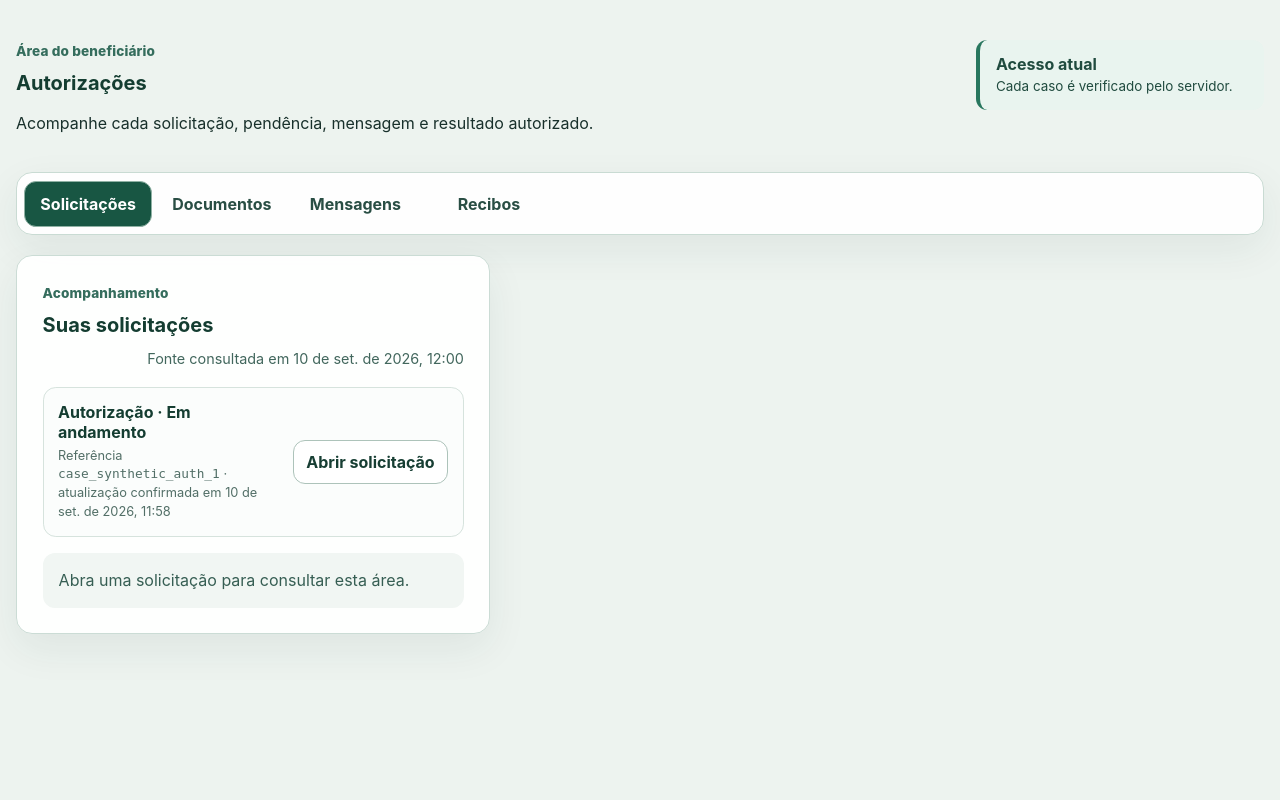
Test: leva beneficiário de solicitações a documentos, mensagens e recibos do caso autorizado
Expected: the heading "Autorização · Em andamento" is shown, [58,402,191,442]
Click the tab "Documentos" at (222, 204), box [158,181,286,227]
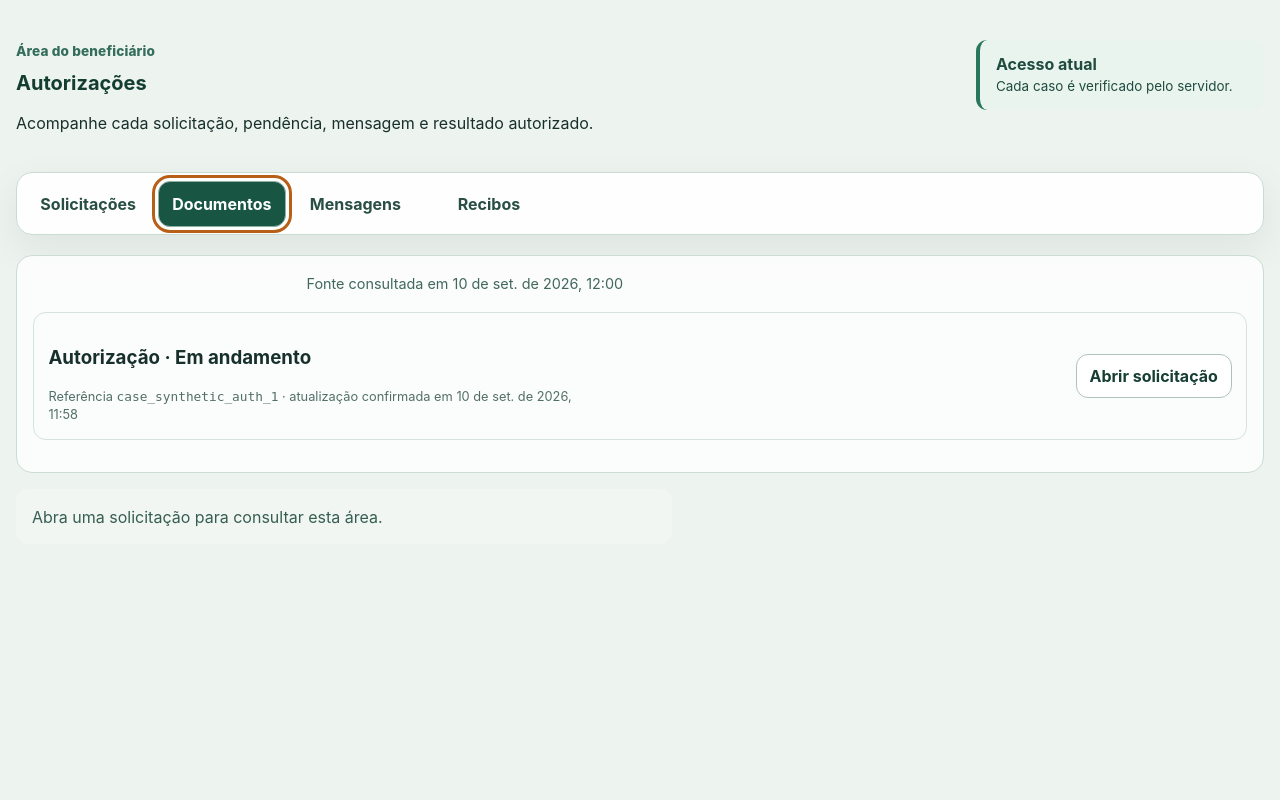
Click the button "Abrir solicitação" at (1154, 376), box [1076,354,1232,398]
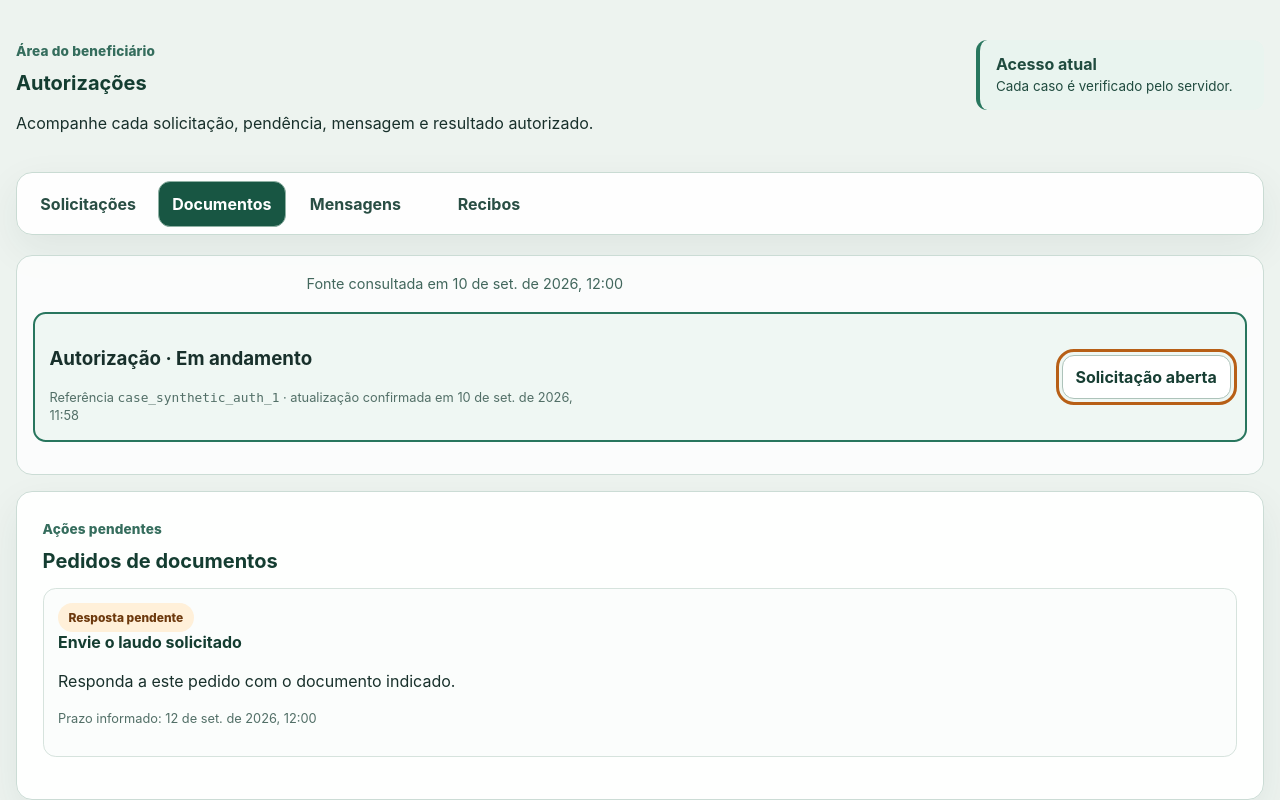
Now the heading "Pedidos de documentos" is shown, box [43,549,278,573]
Now the heading "Envie o laudo solicitado" is shown, box [58,632,242,652]
Click the tab "Mensagens" at (355, 204), box [291,181,419,227]
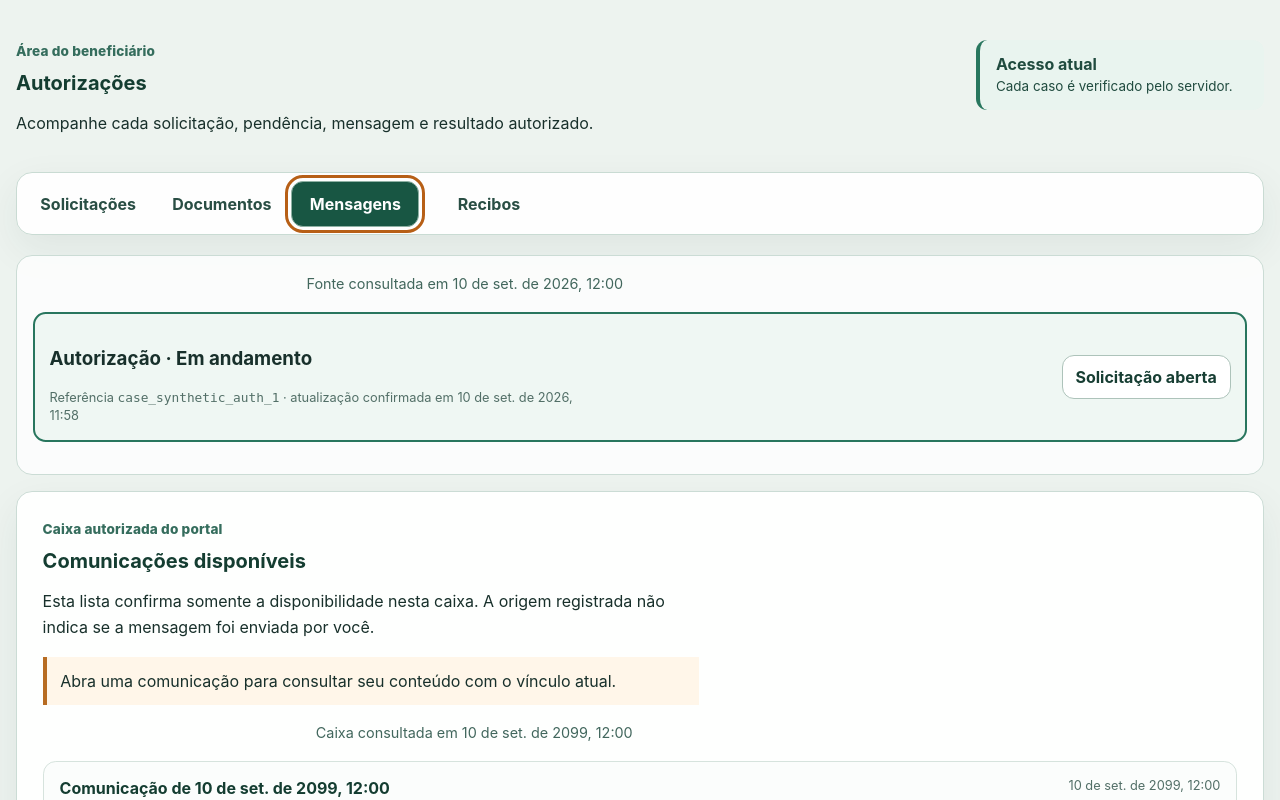
Click the tab "Recibos" at (489, 204), box [425,181,553,227]
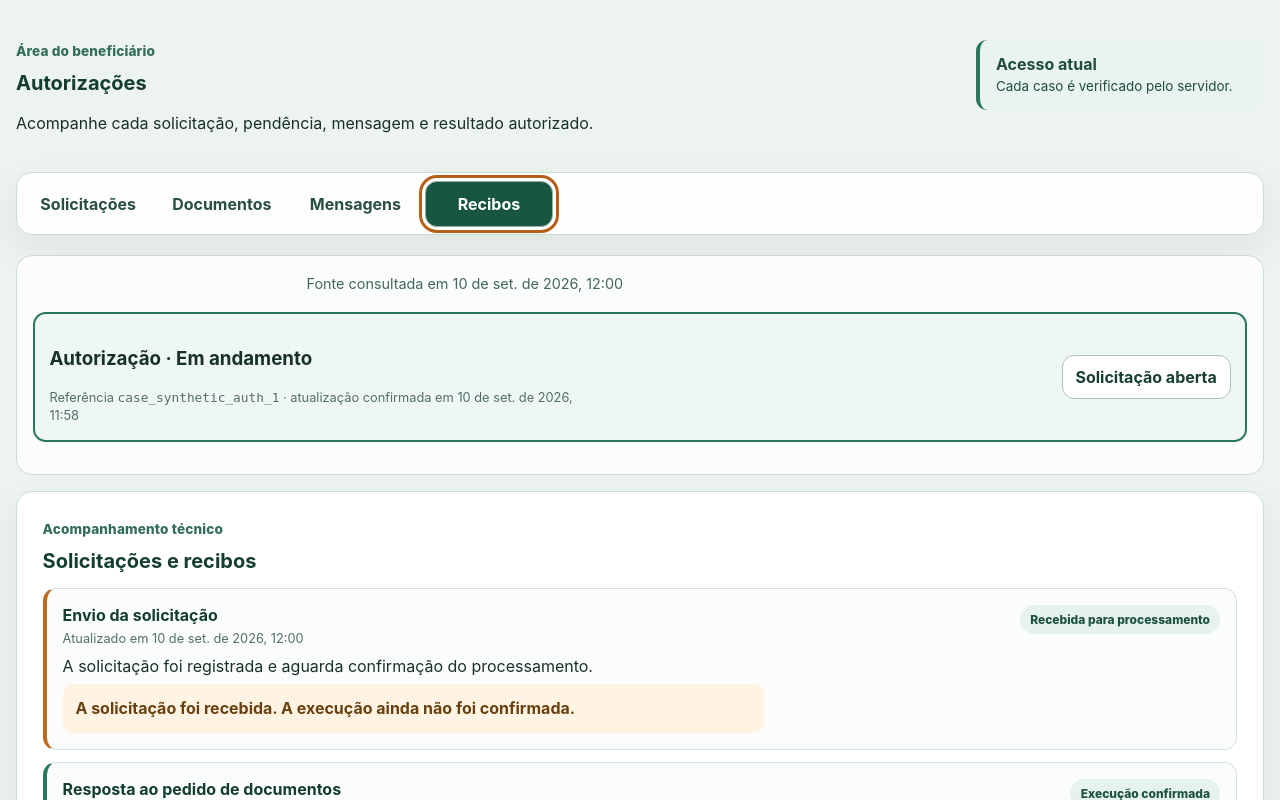
Now the list item "Envio da solicitação" is shown, box [63,605,218,625]
Now the text "execução ainda não foi confirmada" is shown, box [75,698,575,718]
